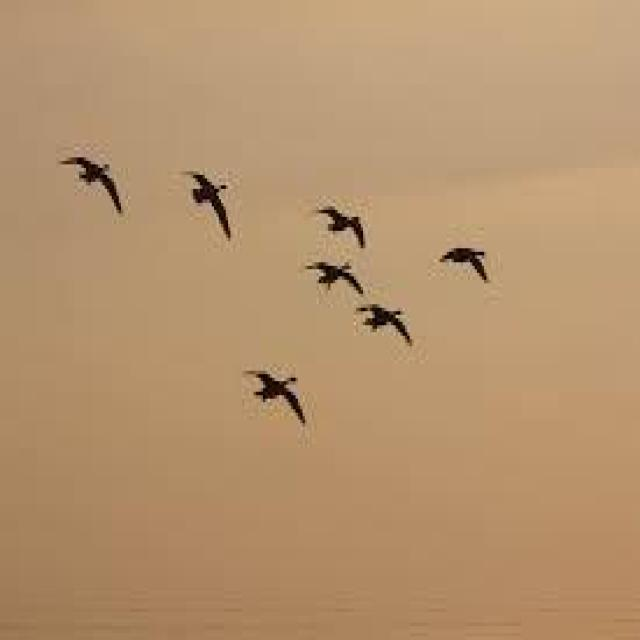bird: (55, 147, 124, 219), (177, 167, 235, 247), (240, 367, 309, 433), (353, 299, 418, 351), (312, 198, 366, 251), (304, 257, 368, 299), (436, 243, 490, 286)
